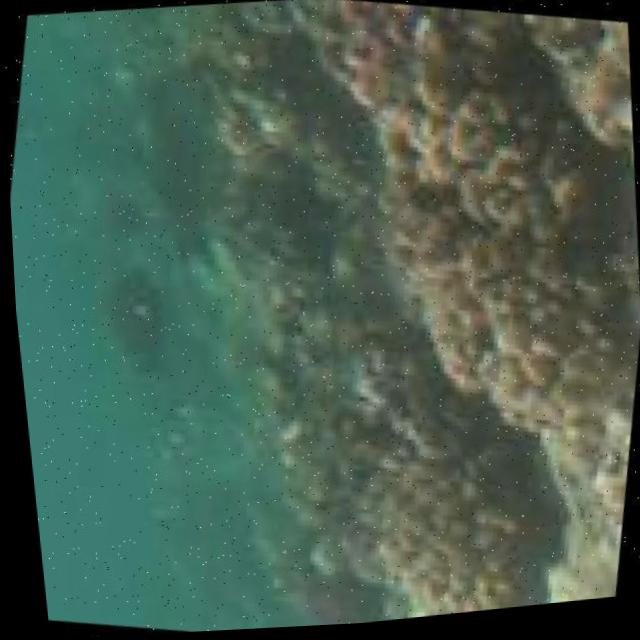Healthy Coral: (323, 0, 640, 452), (327, 409, 566, 627)
